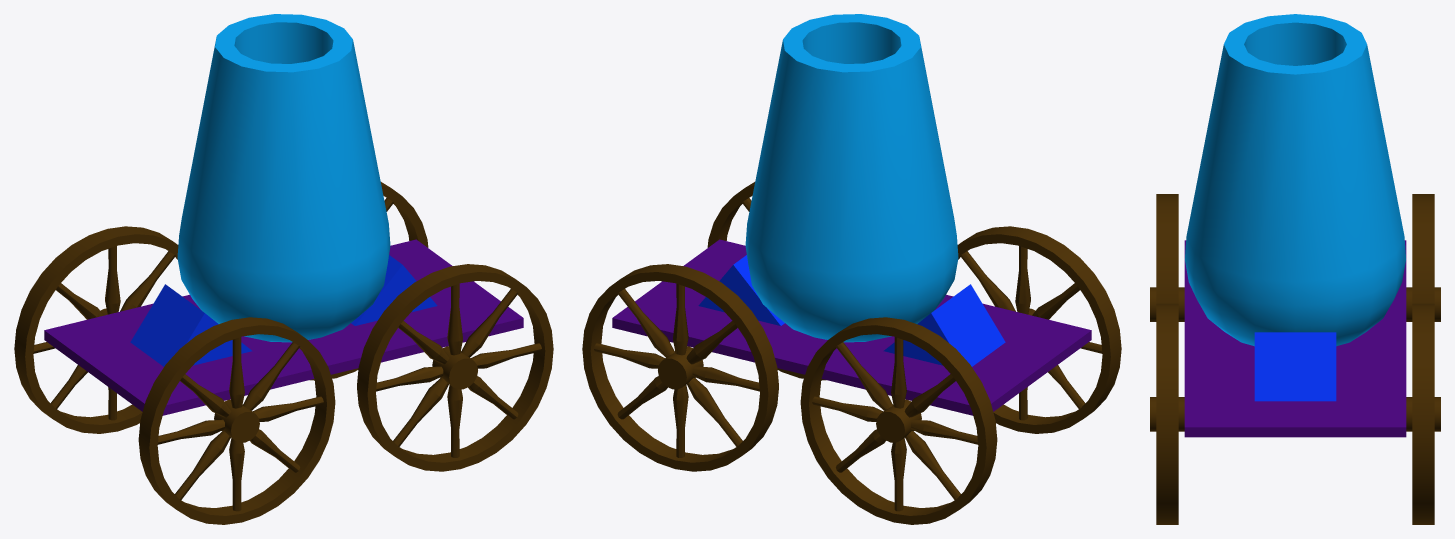
The model's file is Gun01.fbx.
3 renders of one model, left to right at view 1: azimuth 30°, elevation 25°; view 2: azimuth 150°, elevation 25°; view 3: azimuth 270°, elevation 25°, orthographic. The views are drawn at different scales.
Parts seen in each view (by area): view 1: Cylinder, Cylinder.002, Cylinder.020, Plane, Cylinder.026; view 2: Cylinder, Cylinder.002, Cylinder.020, Plane, Cylinder.026; view 3: Cylinder, Plane, Cylinder.020, Cylinder.002, Cylinder.026.
Boxes of the visible parts, <box> form: Cylinder: <box>177,14,390,342</box>; Cylinder.002: <box>14,226,335,524</box>; Cylinder.020: <box>310,182,553,471</box>; Plane: <box>44,239,523,415</box>; Cylinder.026: <box>130,255,437,366</box>; Cylinder: <box>745,14,958,342</box>; Cylinder.002: <box>800,226,1121,524</box>; Cylinder.020: <box>582,182,825,471</box>; Plane: <box>612,239,1091,415</box>; Cylinder.026: <box>698,255,1005,366</box>; Cylinder: <box>1184,14,1406,346</box>; Plane: <box>1184,240,1406,437</box>; Cylinder.020: <box>1150,303,1440,524</box>; Cylinder.002: <box>1150,194,1440,321</box>; Cylinder.026: <box>1254,332,1336,401</box>.
Bounding box in the file's own units: 435 × 414 × 263.
1 material, 1 textured.
